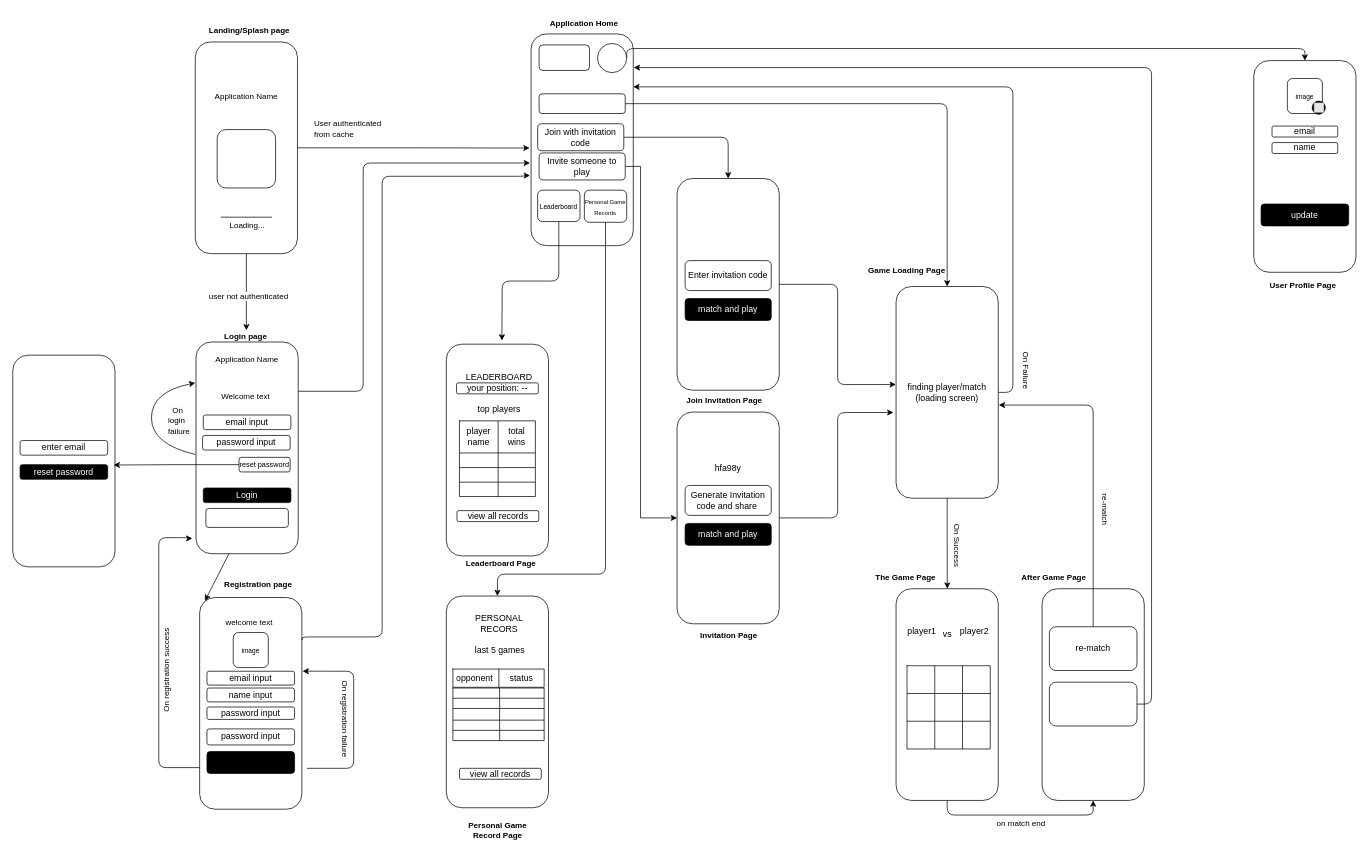
This 1369x856 diagram has some shape labels left out. Grey dashed boxes stand in for pictures. The shapes that lost their labels are listed below. From the top down, each one's box as (x1, y1, x2, y2) in pixels, then its label:
(538, 44, 589, 70): app name / logo
(597, 43, 627, 73): user image, name
(538, 93, 625, 114): Find online players
(216, 129, 276, 188): Logo
(205, 508, 288, 527): create an account
(1049, 681, 1137, 726): end session
(206, 751, 295, 773): Register
